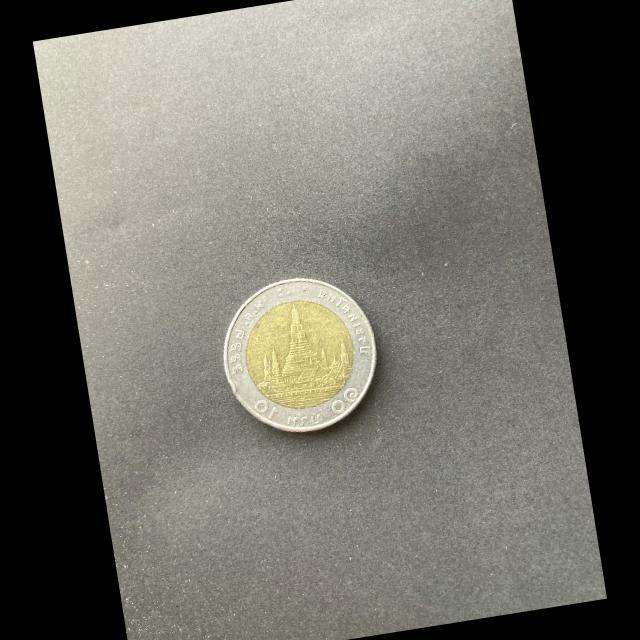10 Bath: (222, 273, 384, 438)
